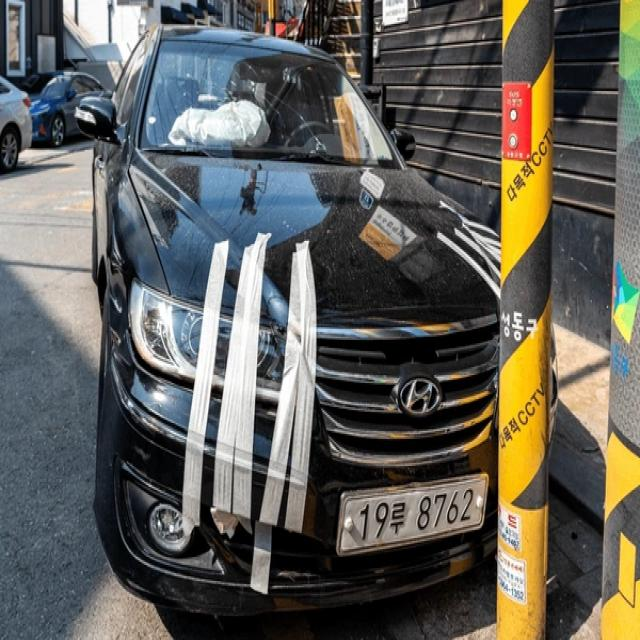hyundai: (397, 372, 446, 424)
